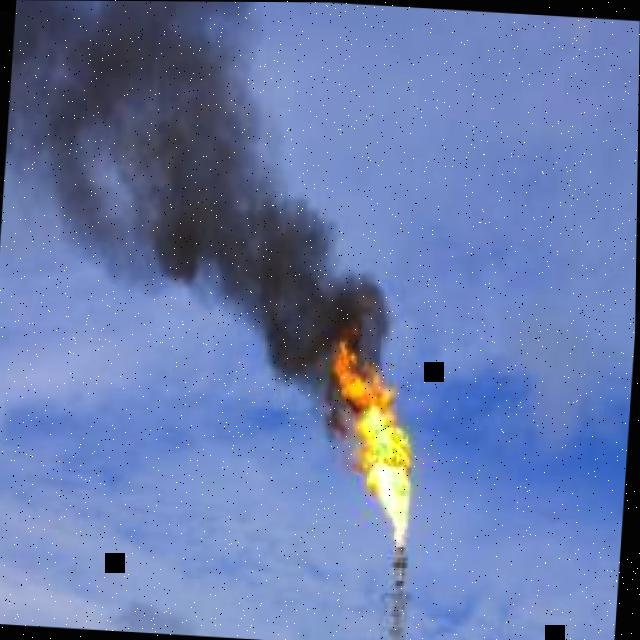fire: (333, 317, 412, 545)
smoke: (6, 0, 390, 437)
